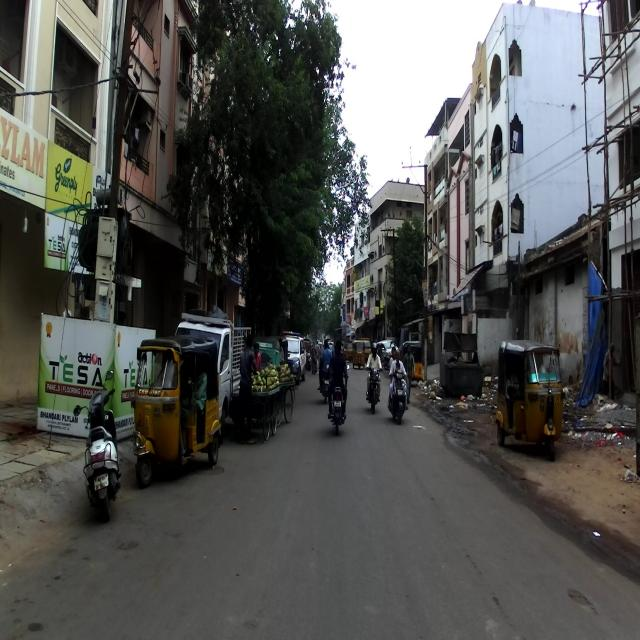autorickshaw: (130, 333, 221, 491), (495, 340, 564, 461)
motorcycle_Hero: (324, 360, 350, 435)
scooter: (72, 368, 121, 520)
